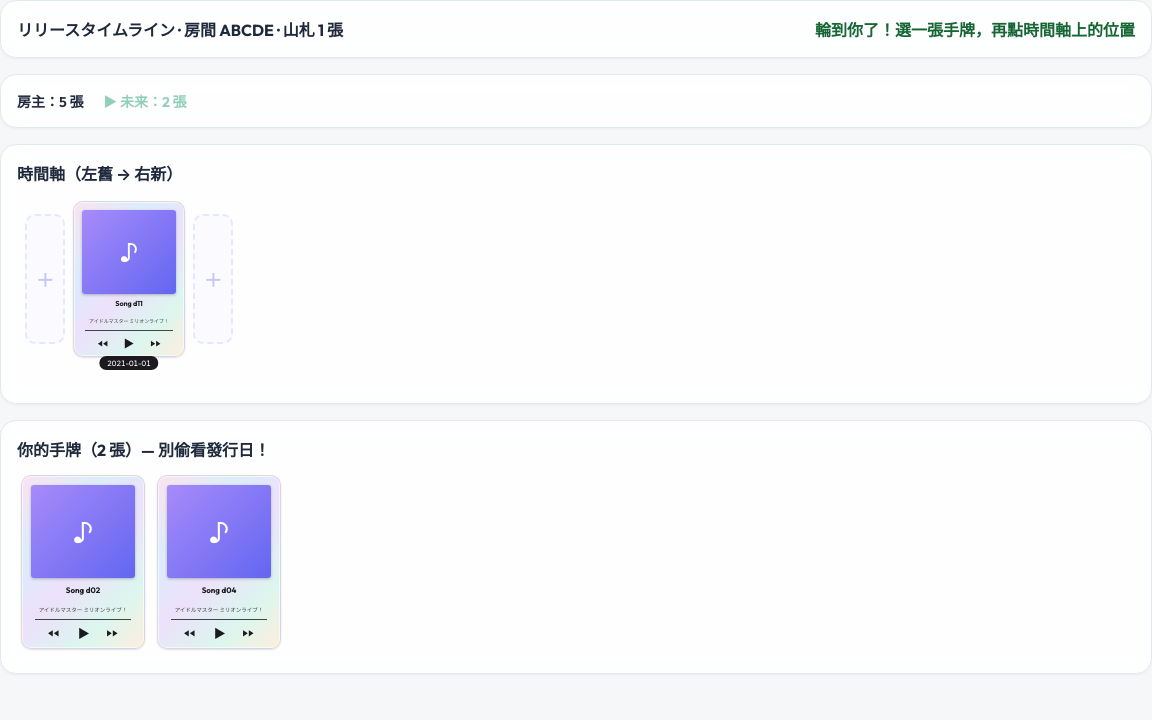
Test case: TimelineGame › 抓手牌、顯示時間軸（含日期）、選牌後點位置 → place → 顯示結果並更新手牌
Expected: the text "Song d11" is shown, [115,299,143,308]
Expected: the text "2021-01-01" is shown, [99,356,159,370]
Click the button "♪ Song d02 アイドルマスター ミリオンライブ！" at (83, 562), box [21,475,145,649]
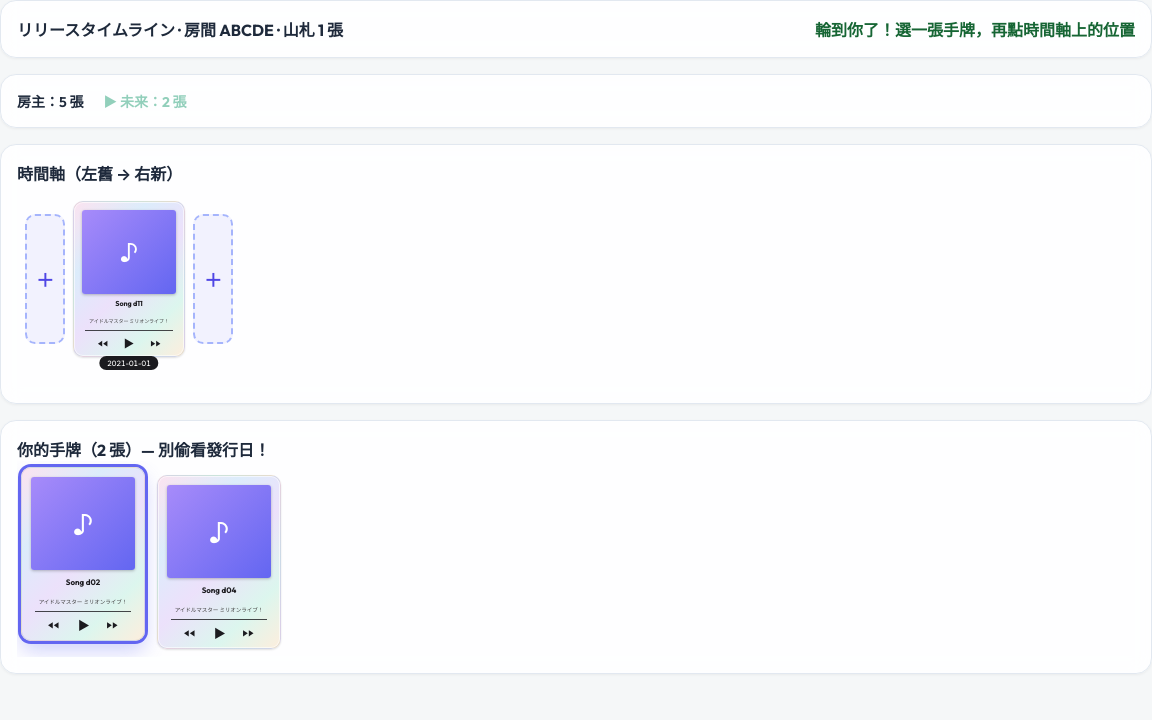
Expected: the button named "放在第 1 個位置" is enabled
Click the button named "放在第 1 個位置" at (45, 279), box [25,214,65,344]
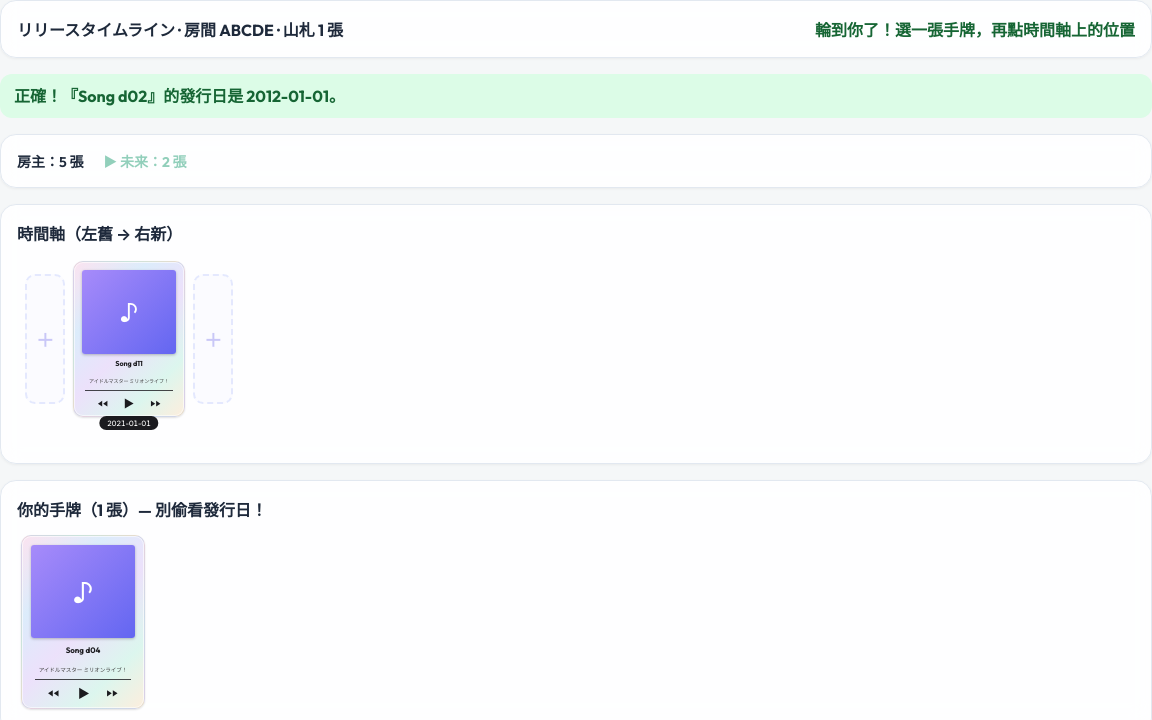
Expected: the button "♪ Song d04 アイドルマスター ミリオンライブ！" is shown, [21,535,145,709]
Expected: the text "正確！『Song d02』的發行日是 2012-01-01。" is shown, [0,74,1151,118]
